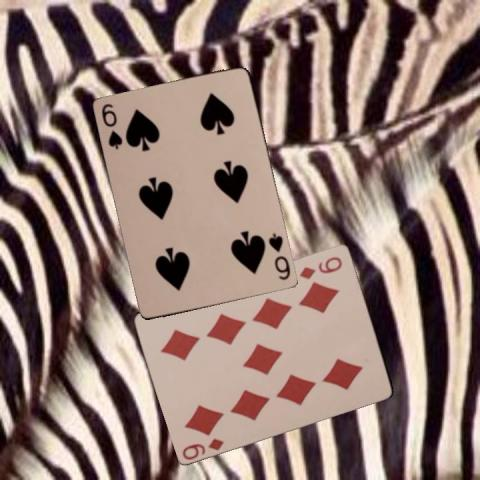6s: (265, 230, 292, 282), (98, 101, 125, 151)
9d: (297, 253, 344, 280), (179, 434, 226, 460)
